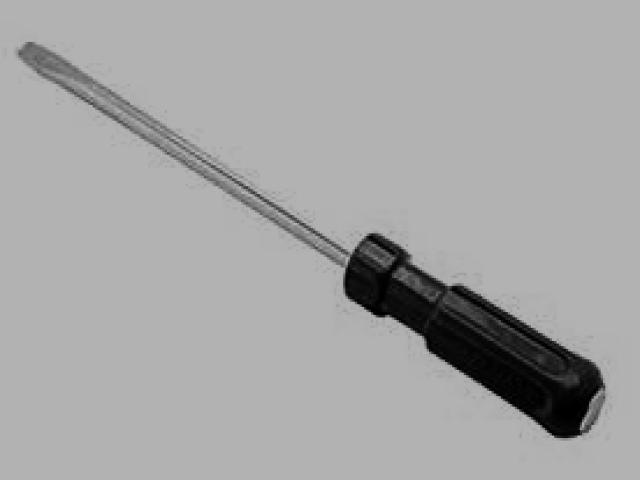Screwdriver: (19, 42, 604, 436)
